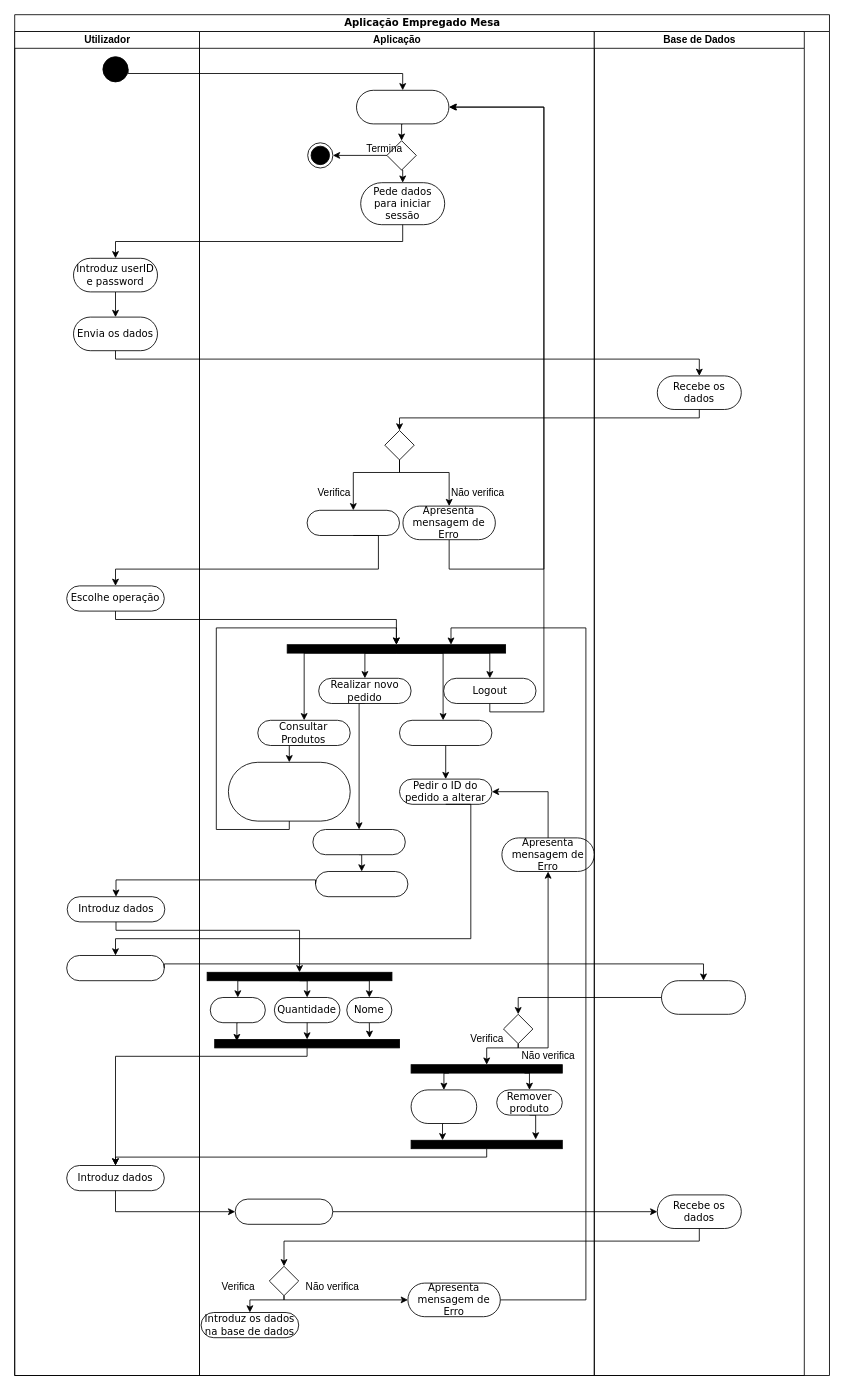
The diagram is 844 pixels wide and 1390 high, and some of its shapes have lost their labels. The shapes that lost their labels are listed below. From the top down, each one's centre as x and y in pixels, then its label:
[402,106]: Apresenta página de Login
[353,522]: Apresenta Menu Principal
[445,732]: Alterar pedido
[289,791]: Apresenta produtos existentes no Bar e respetivas quantidade e preço
[358,842]: Cria novo ID pedido
[361,884]: Pedido para introduzir dados
[115,968]: Introduzir ID pedido a alterar
[237,1010]: ID Produto
[703,997]: Recebe o pedido de consulta
[443,1106]: Alterar quantidade de produto
[283,1211]: Verifica na base de dados
